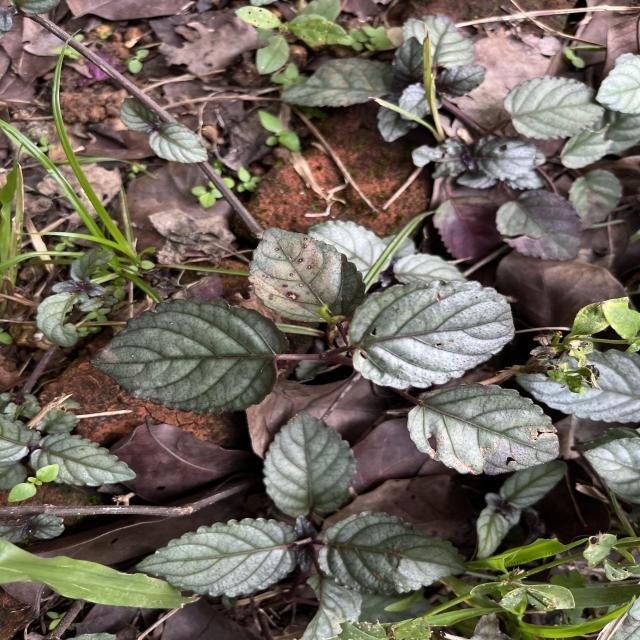Hemigraphis colorata: (84, 292, 294, 418), (340, 276, 518, 392), (404, 380, 564, 478), (132, 514, 306, 600), (315, 506, 473, 598), (244, 223, 368, 323), (258, 406, 360, 516), (28, 431, 138, 488)
